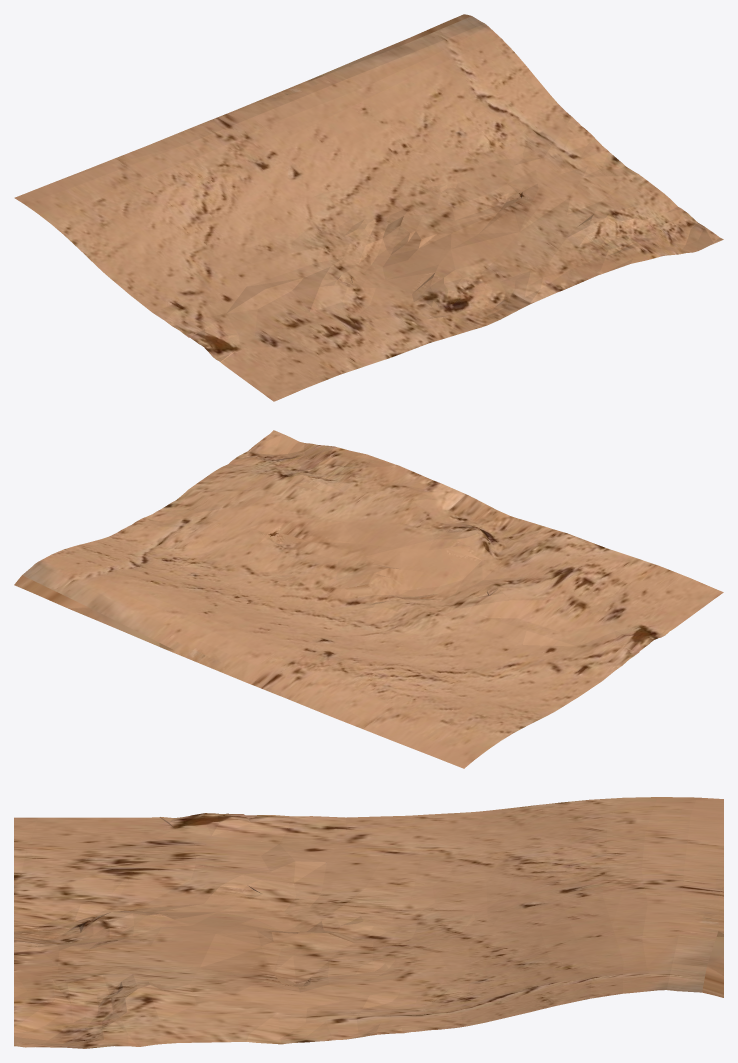
3 views of the same model, one above another, from view 1: azimuth 30°, elevation 25°; view 2: azimuth 150°, elevation 25°; view 3: azimuth 270°, elevation 25° (orthographic). The views are drawn at different scales.
Size of the model in its own units: 1.04 by 0.2079 by 1.04.
Materials: 2 (2 with a texture image).
